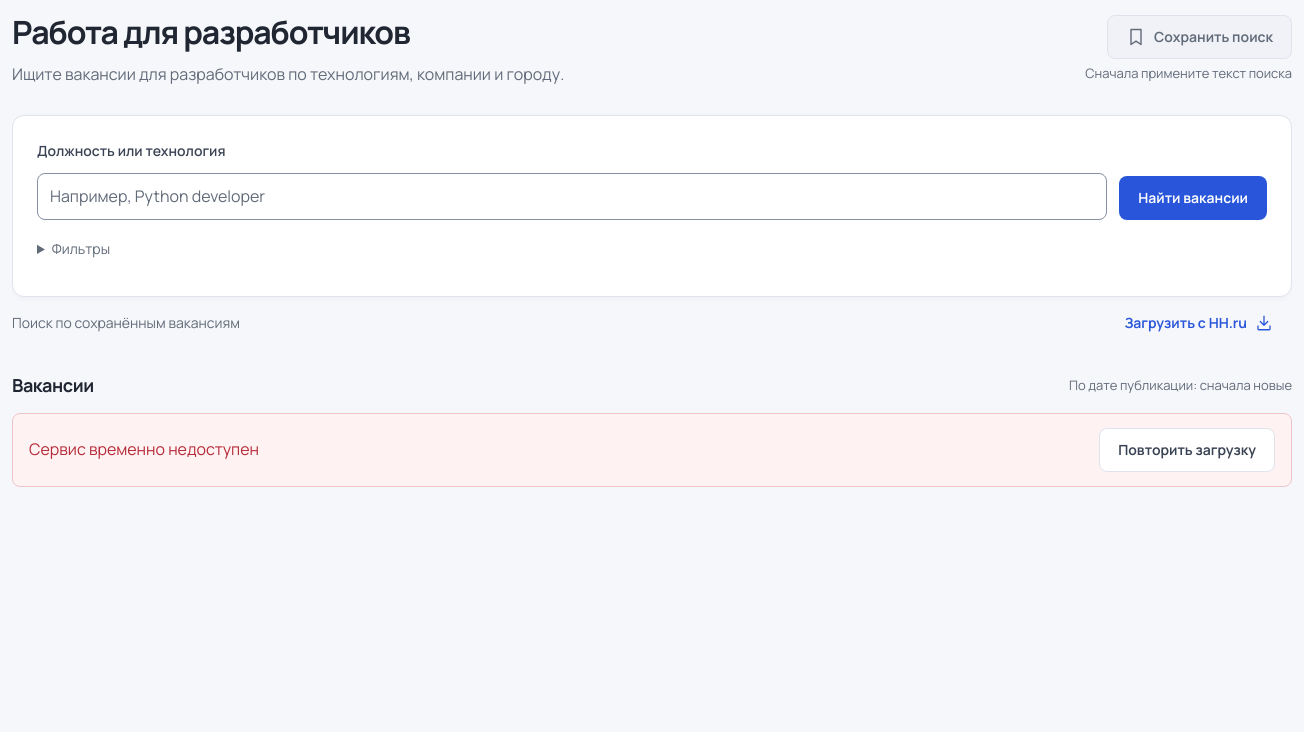
Test case: Vacancies API search › separates failure from empty results and allows retry
The image size is (1304, 732).
Expected: the text "Вакансии не найдены" is not shown
Click the button "Повторить загрузку". click: (1187, 450)
box: [1099,428,1275,472]
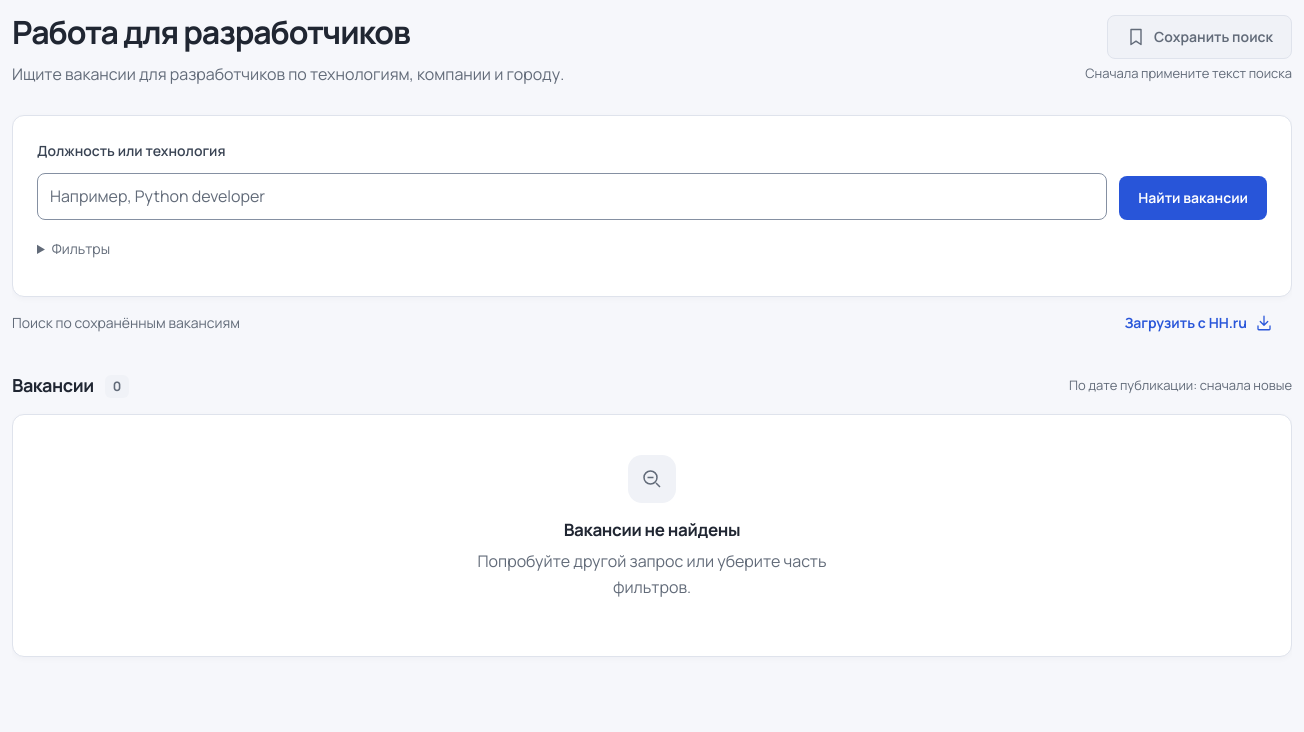
Expected: the text "Вакансии не найдены" is shown, [564,518,740,541]
